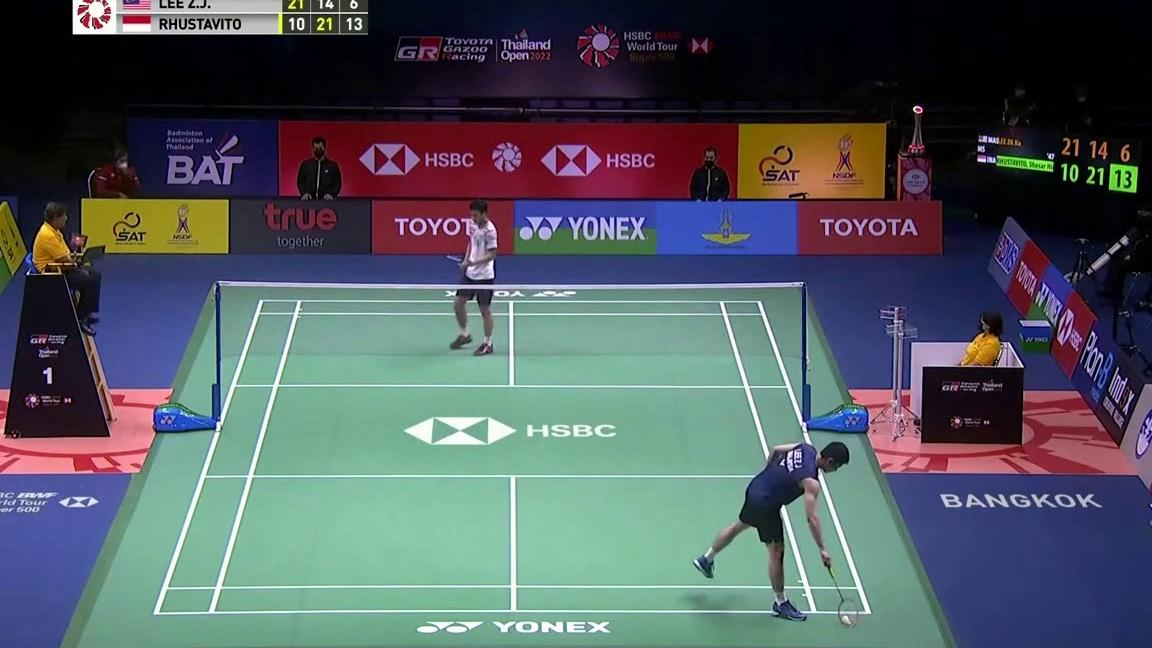racket: (824, 557, 862, 629), (443, 250, 469, 271)
shuttle: (840, 615, 852, 627)
